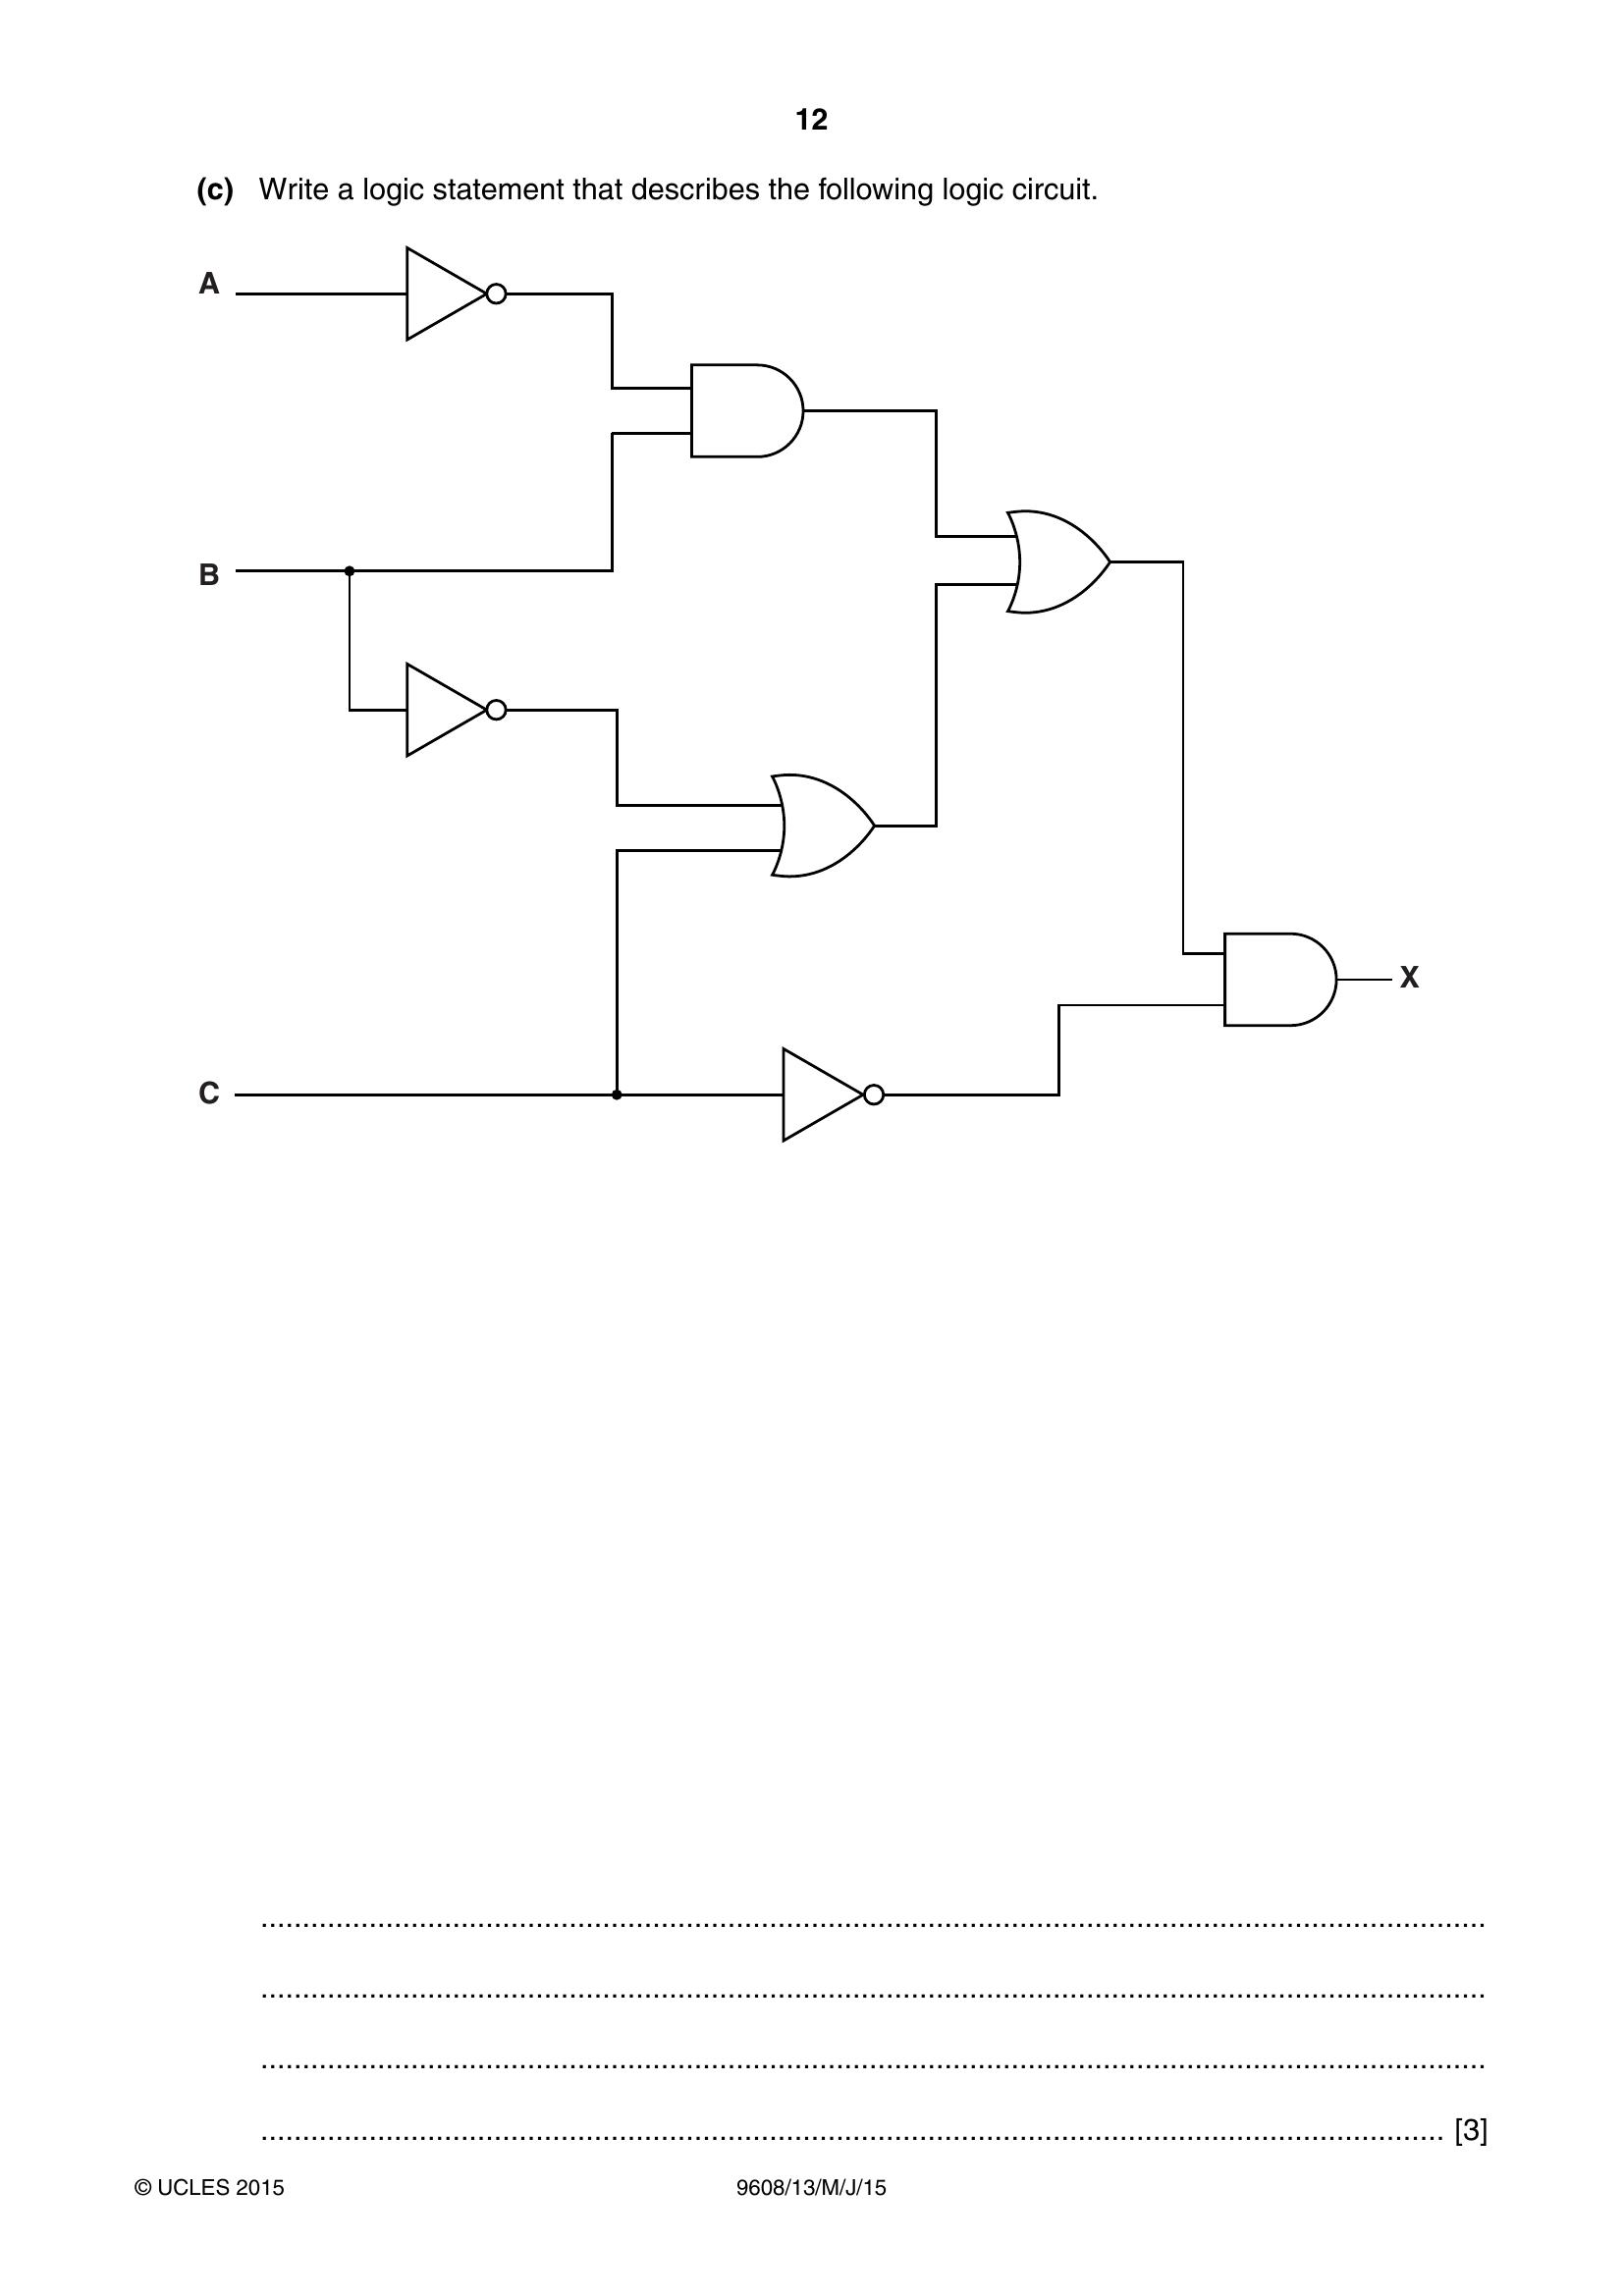continued question: (4, 144, 1622, 1318)
